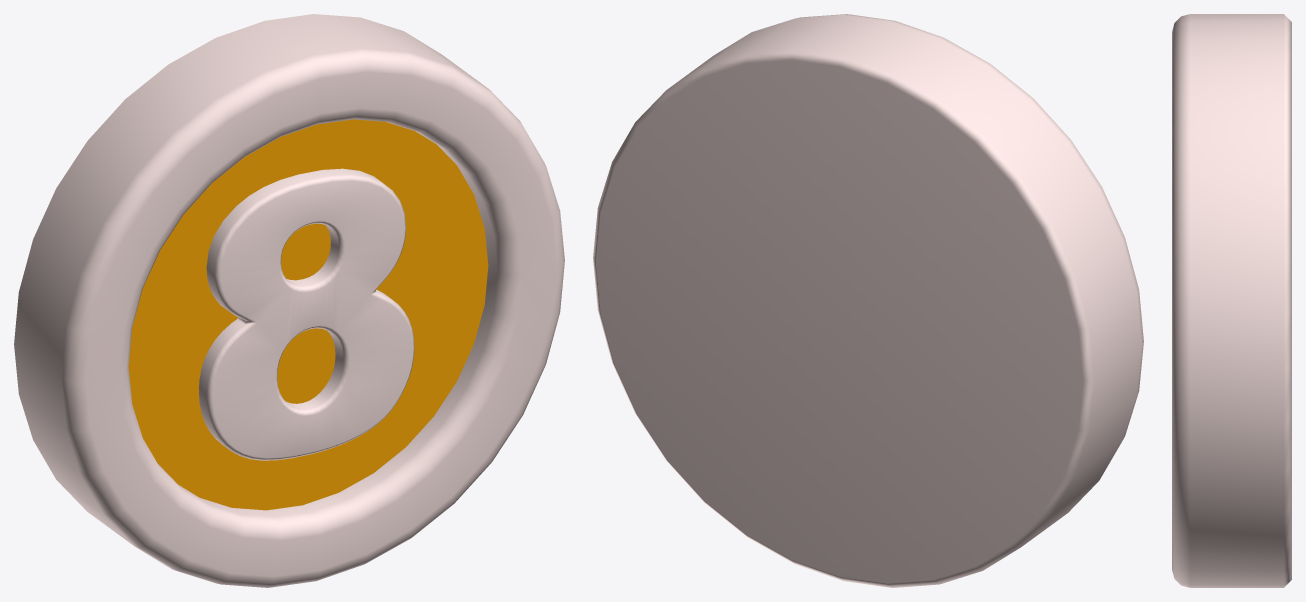
Rendered from City_20_Number_House_8.glb.
The picture shows the model from 3 angles, left to right: view 1: azimuth 30°, elevation 25°; view 2: azimuth 150°, elevation 25°; view 3: azimuth 270°, elevation 25°; orthographic projection.
Parts seen in each view (by area): view 1: City_20_Number_House_8; view 2: City_20_Number_House_8; view 3: City_20_Number_House_8.
Boxes of the visible parts, bbox=[...] form: City_20_Number_House_8: bbox=[14, 14, 564, 587]; City_20_Number_House_8: bbox=[593, 14, 1143, 587]; City_20_Number_House_8: bbox=[1172, 14, 1291, 587].
Bounding box in the file's own units: 0.5101 × 0.5101 × 0.1065.
1 material, 1 textured.
